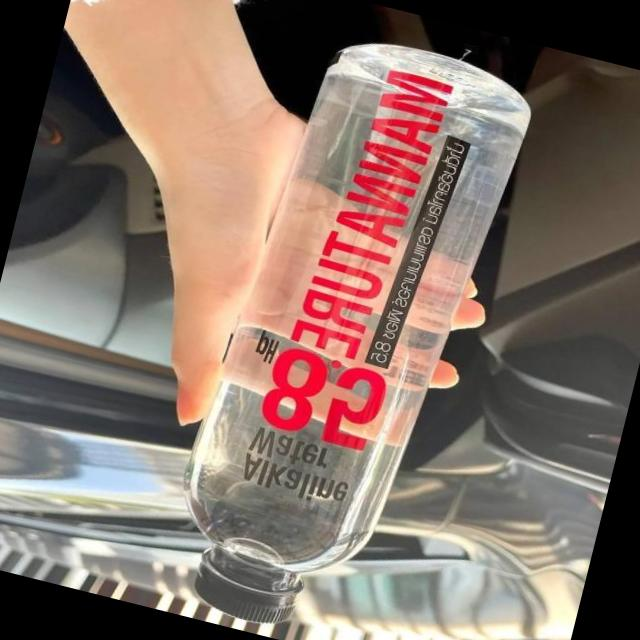plastic_bottle: (152, 17, 540, 640)
